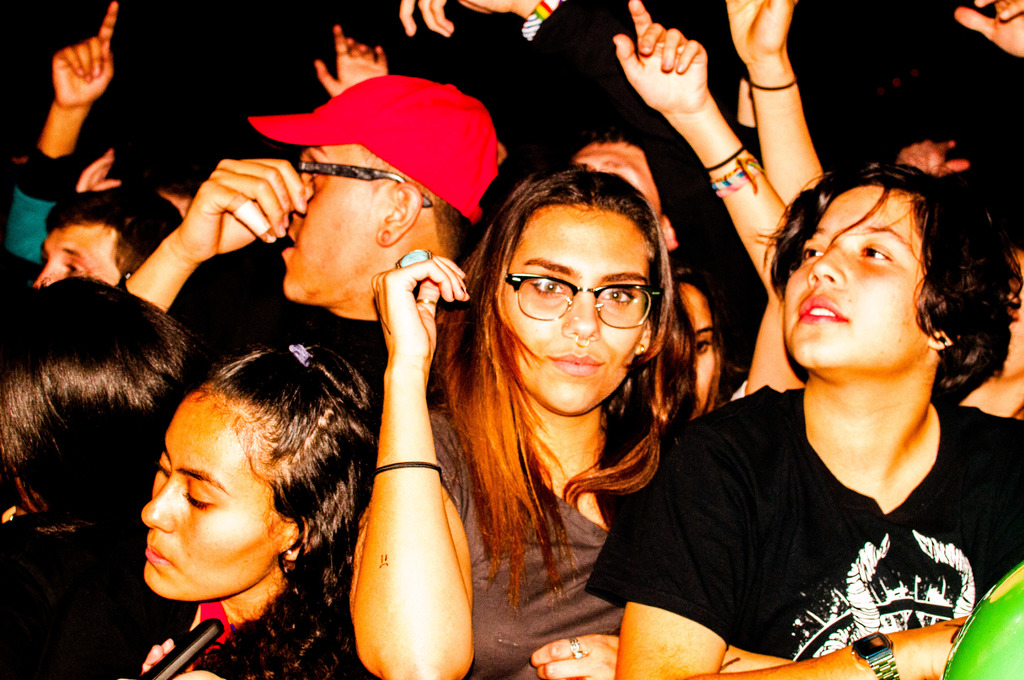Human-face: (493, 197, 650, 416), (139, 391, 279, 600), (787, 182, 924, 370), (279, 145, 394, 305), (670, 280, 716, 424), (31, 223, 123, 284)
